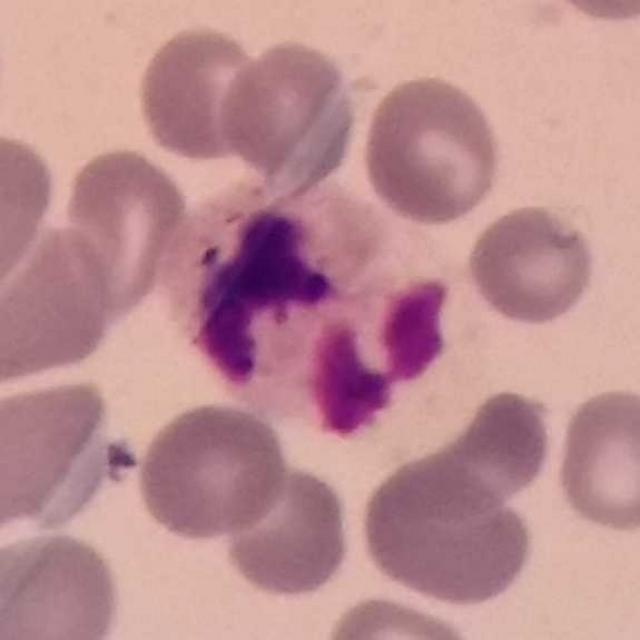Neutrophil: (161, 176, 467, 451)
Platelets: (104, 436, 142, 482)
RBC: (355, 451, 538, 610), (55, 142, 194, 320), (358, 70, 506, 228), (132, 398, 292, 544), (215, 34, 357, 190), (0, 369, 125, 540), (215, 455, 356, 602), (0, 218, 118, 393), (132, 20, 272, 165), (408, 384, 556, 514), (462, 200, 600, 328), (0, 526, 126, 639), (550, 383, 640, 536), (0, 124, 60, 310), (318, 591, 489, 640), (531, 0, 639, 27)
